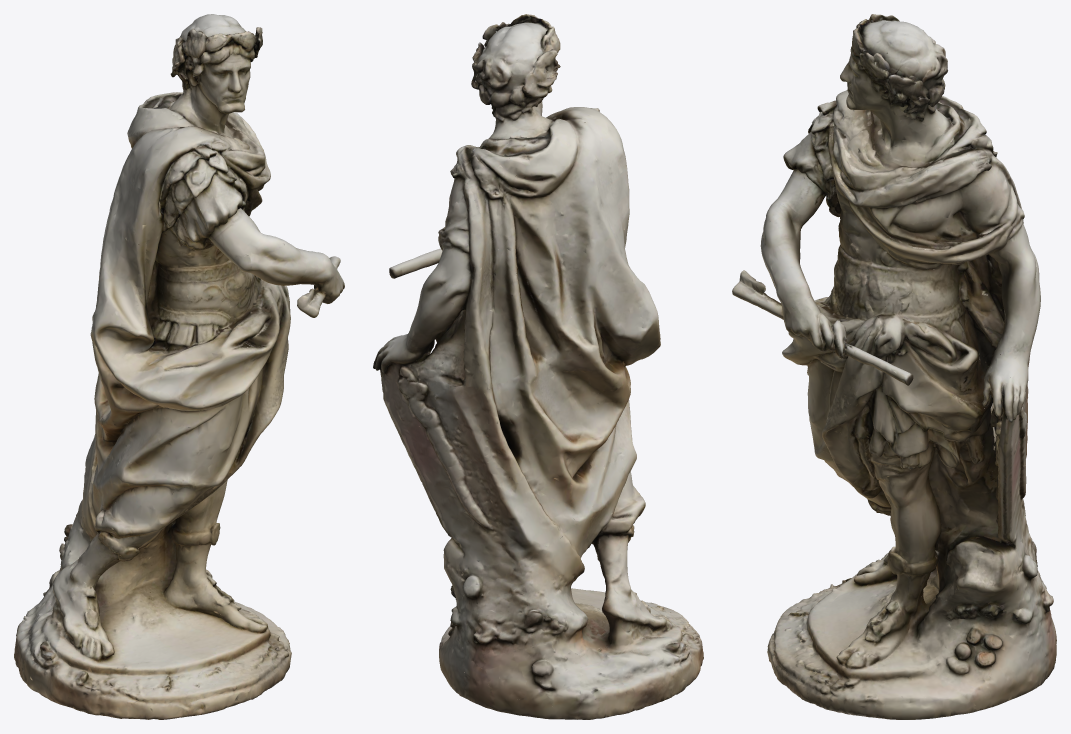
The model's file is caesar-168k.glb.
3 renders of one model, left to right at view 1: azimuth 30°, elevation 25°; view 2: azimuth 150°, elevation 25°; view 3: azimuth 270°, elevation 25°, orthographic. The views are drawn at different scales.
Visible parts, largest first — view 1: CAESAR-mesh; view 2: CAESAR-mesh; view 3: CAESAR-mesh.
Part boxes in pixels (<box>): CAESAR-mesh: <box>14,14,344,719</box>; CAESAR-mesh: <box>373,14,703,719</box>; CAESAR-mesh: <box>732,14,1056,719</box>.
Bounding box in the file's own units: 0.9578 × 1.9 × 0.8389.
Materials: 1 (1 with a texture image).
